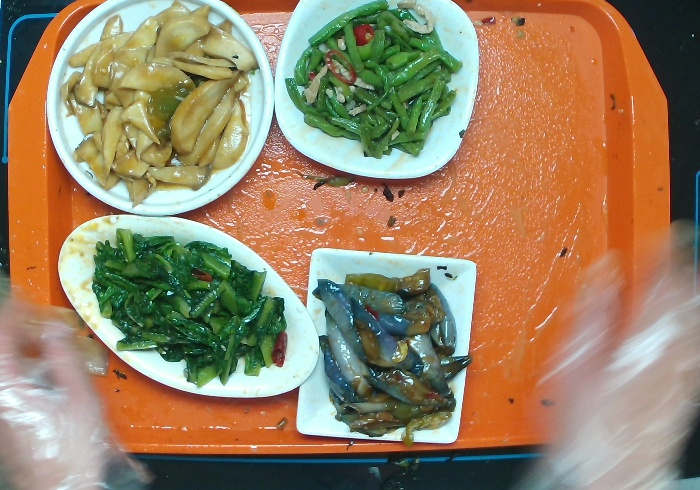HZYJPL-Si_Fang_Die: (294, 244, 479, 448)
HZYJPL-Si_Fang_Yuan_Die: (271, 1, 480, 183)
HZYJPL-Xiao_Yu_Die: (55, 212, 320, 402)
HZYJPL-Xiao_Yuan_Die: (44, 1, 276, 221)
